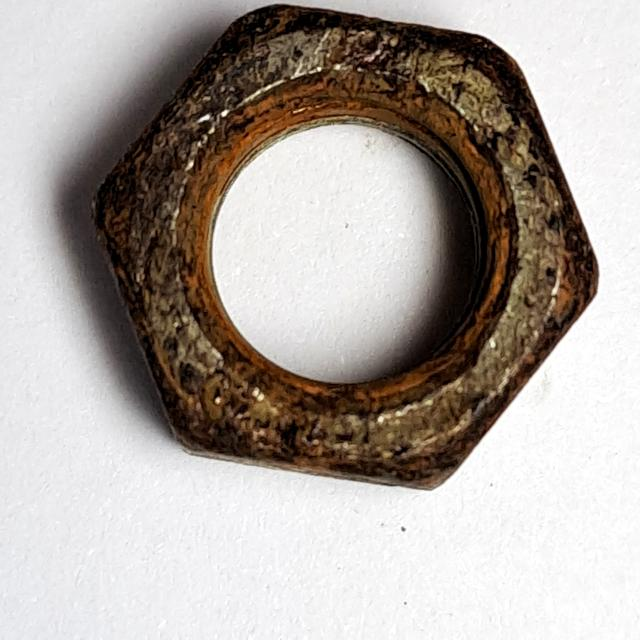Rust: (70, 1, 612, 505)
